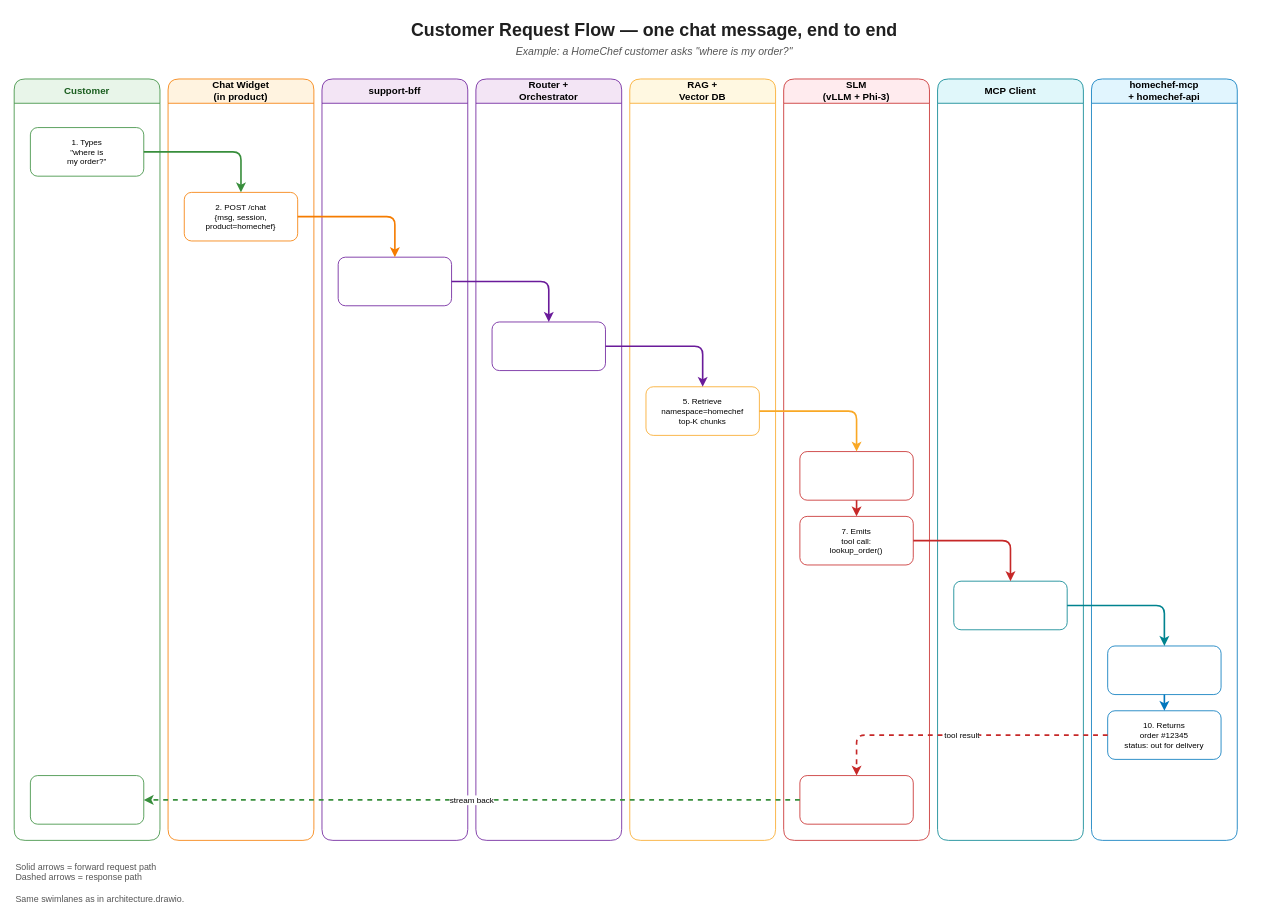
Image size: 1276x919. Some labels were removed from this diagram. Here are the shapes that lost their labels. From the top down, the centre of each, then its label:
[394,281]: 3. Validate session via auth-bff
[548,346]: 4. Classify product=homechef intent=order-status
[856,475]: 6. Generate with context decides: need tool
[1010,605]: 8. Route to homechef-mcp over JSON-RPC
[1164,670]: 9. Calls homechef-api GET /orders/latest
[87,799]: 12. SSE stream: "Your order #12345 is out for delivery, ETA 14:30"
[856,799]: 11. SLM gets tool result, writes natural reply
